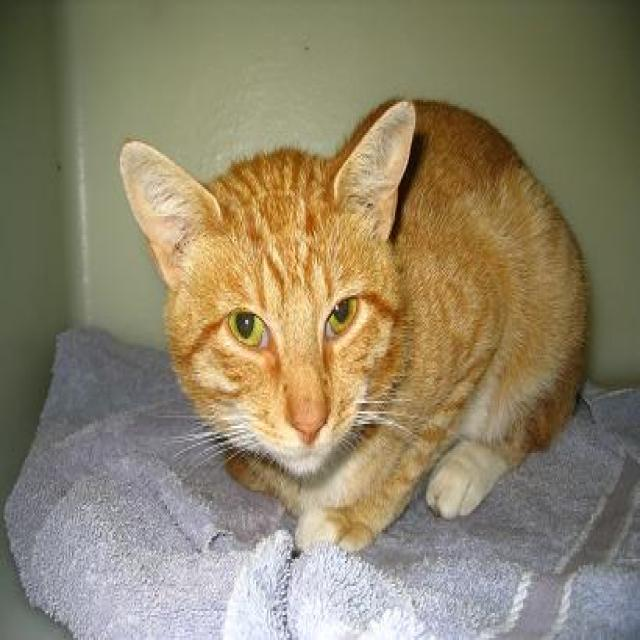Cats: (117, 96, 590, 554)
